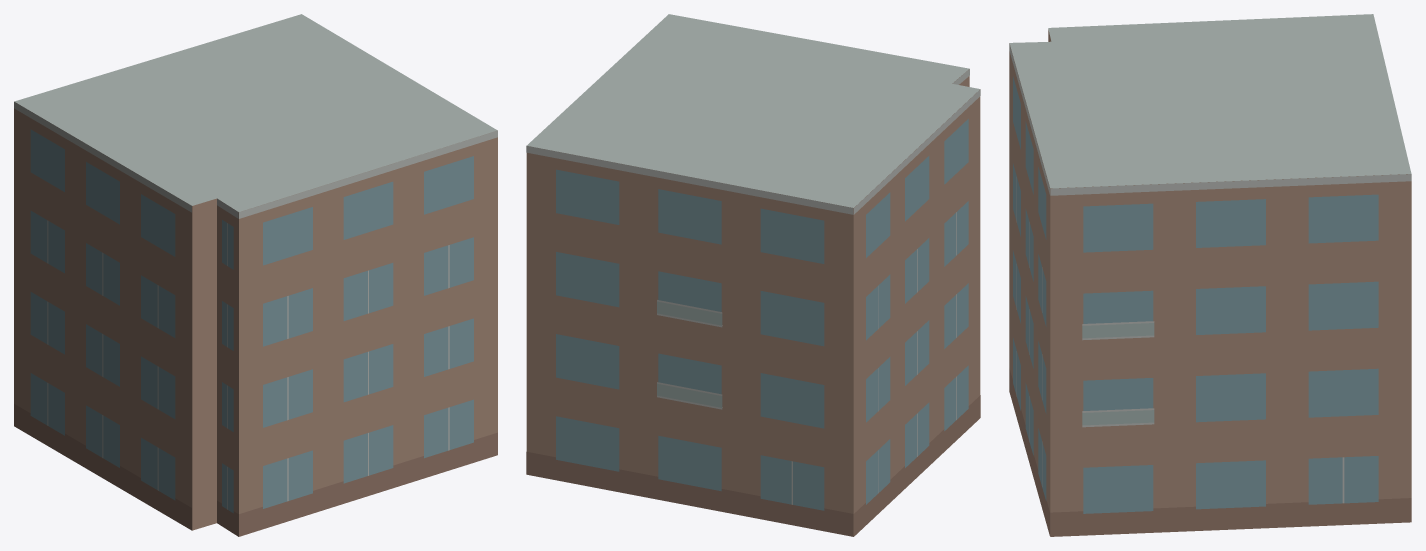
Rendered from survey-upis-33039038.glb.
The picture shows the model from 3 angles, left to right: view 1: azimuth 30°, elevation 25°; view 2: azimuth 150°, elevation 25°; view 3: azimuth 270°, elevation 25°; orthographic projection. The views are drawn at different scales.
Visible parts, largest first — view 1: survey-upis-33039038.tmp; view 2: survey-upis-33039038.tmp; view 3: survey-upis-33039038.tmp.
Part boxes in pixels (bbox=[...]): survey-upis-33039038.tmp: bbox=[14, 14, 497, 536]; survey-upis-33039038.tmp: bbox=[526, 14, 980, 536]; survey-upis-33039038.tmp: bbox=[1009, 14, 1411, 536].
Bounding box in the file's own units: 12.43 × 11.57 × 12.11.
